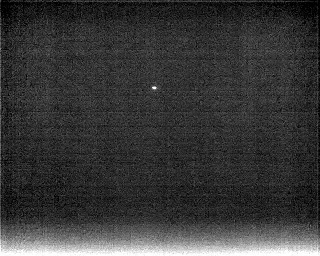AIRPLANE: (150, 83, 158, 92)
